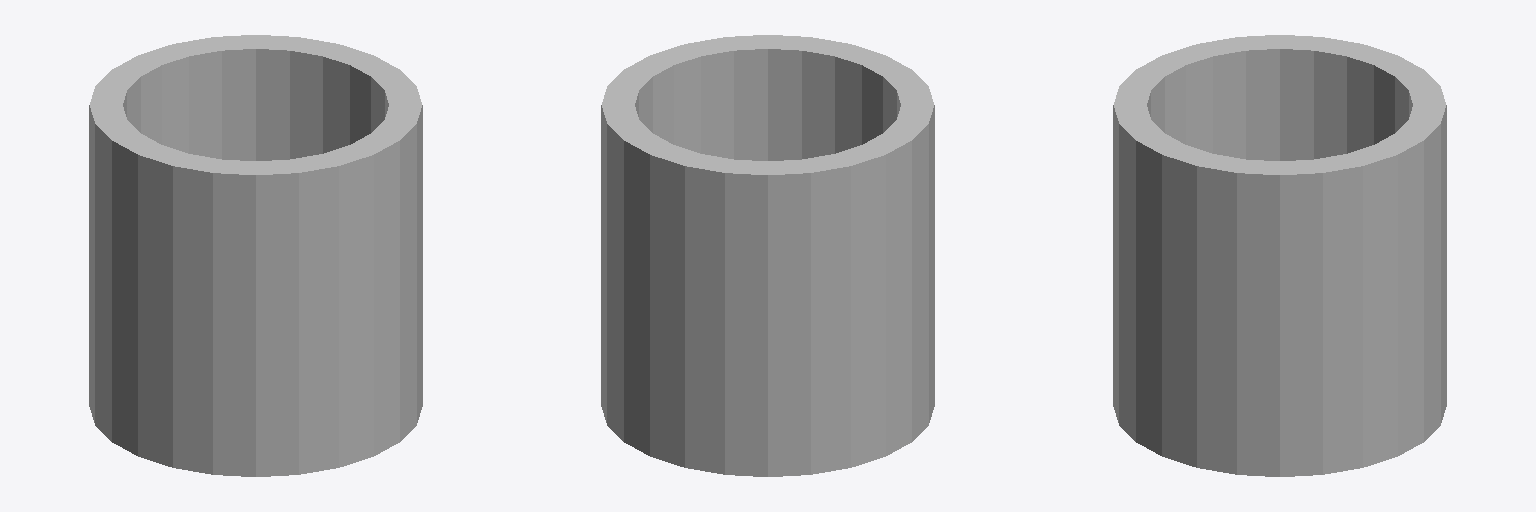
The model's file is PipeExport.obj.
The picture shows the model from 3 angles: view 1: azimuth 30°, elevation 25°; view 2: azimuth 150°, elevation 25°; view 3: azimuth 270°, elevation 25°; orthographic projection.
Parts seen in each view (by area): view 1: Pipe; view 2: Pipe; view 3: Pipe.
Part boxes in pixels (left/top/right/bottom): Pipe: left=89, top=35, right=422, bottom=476; Pipe: left=601, top=35, right=934, bottom=476; Pipe: left=1113, top=35, right=1446, bottom=476.
Bounding box in the file's own units: 2 × 2 × 2.